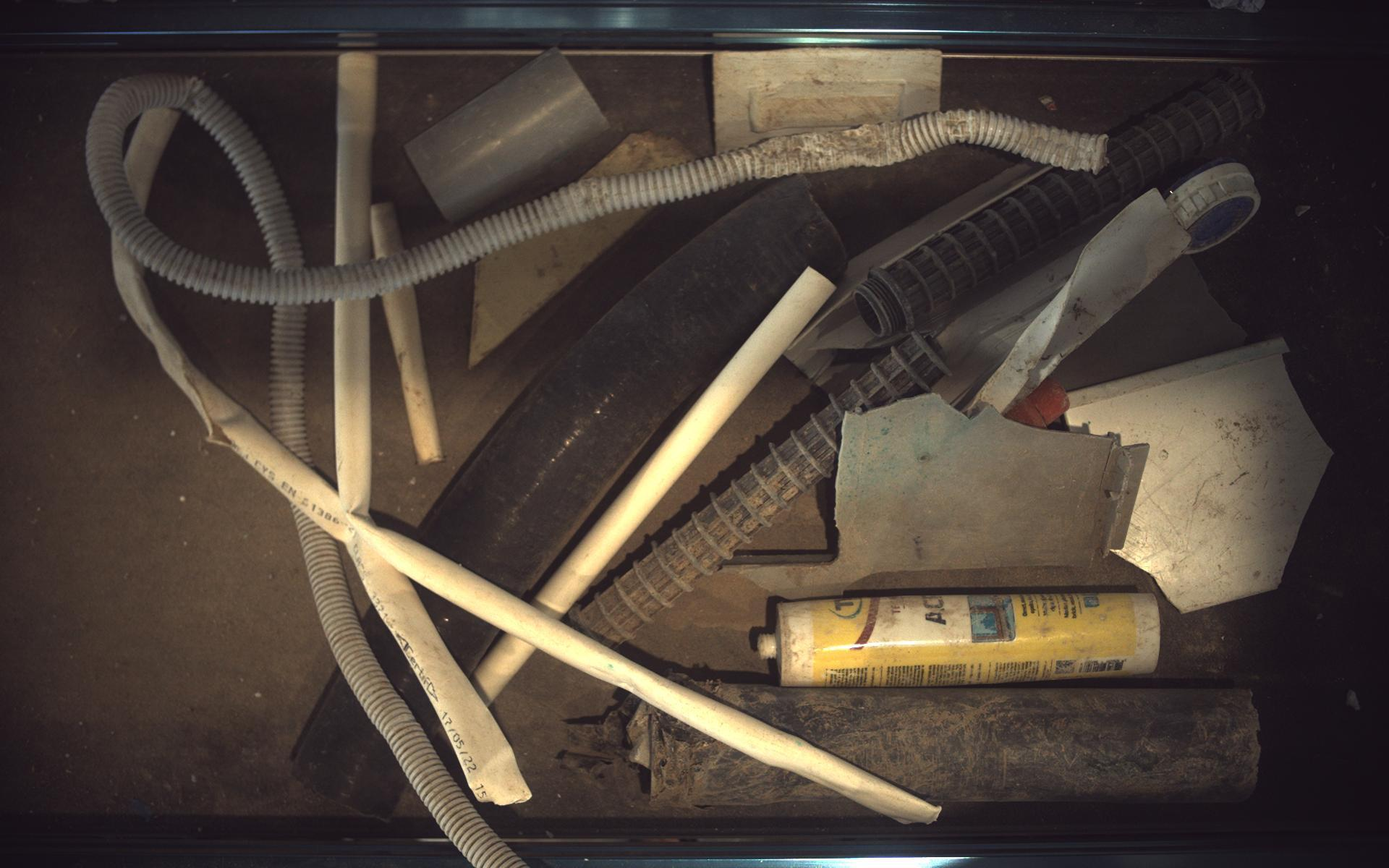pipes: (111, 237, 940, 825), (85, 73, 1109, 462), (417, 176, 848, 598), (536, 267, 836, 618), (293, 509, 527, 868), (694, 681, 1263, 804), (346, 534, 531, 807), (406, 46, 609, 221), (558, 697, 836, 809), (293, 681, 402, 817), (382, 285, 443, 465), (334, 51, 378, 264), (334, 298, 372, 515), (123, 106, 179, 209), (475, 634, 533, 705), (370, 201, 403, 258)
plastic: (572, 332, 951, 646), (857, 69, 1267, 338), (739, 393, 1151, 598), (1069, 338, 1334, 612), (935, 188, 1193, 415), (786, 161, 1046, 383), (758, 593, 1163, 689), (469, 208, 650, 367), (1057, 255, 1249, 391), (714, 48, 943, 150), (1169, 159, 1263, 253), (584, 130, 692, 176), (1006, 377, 1072, 428)
